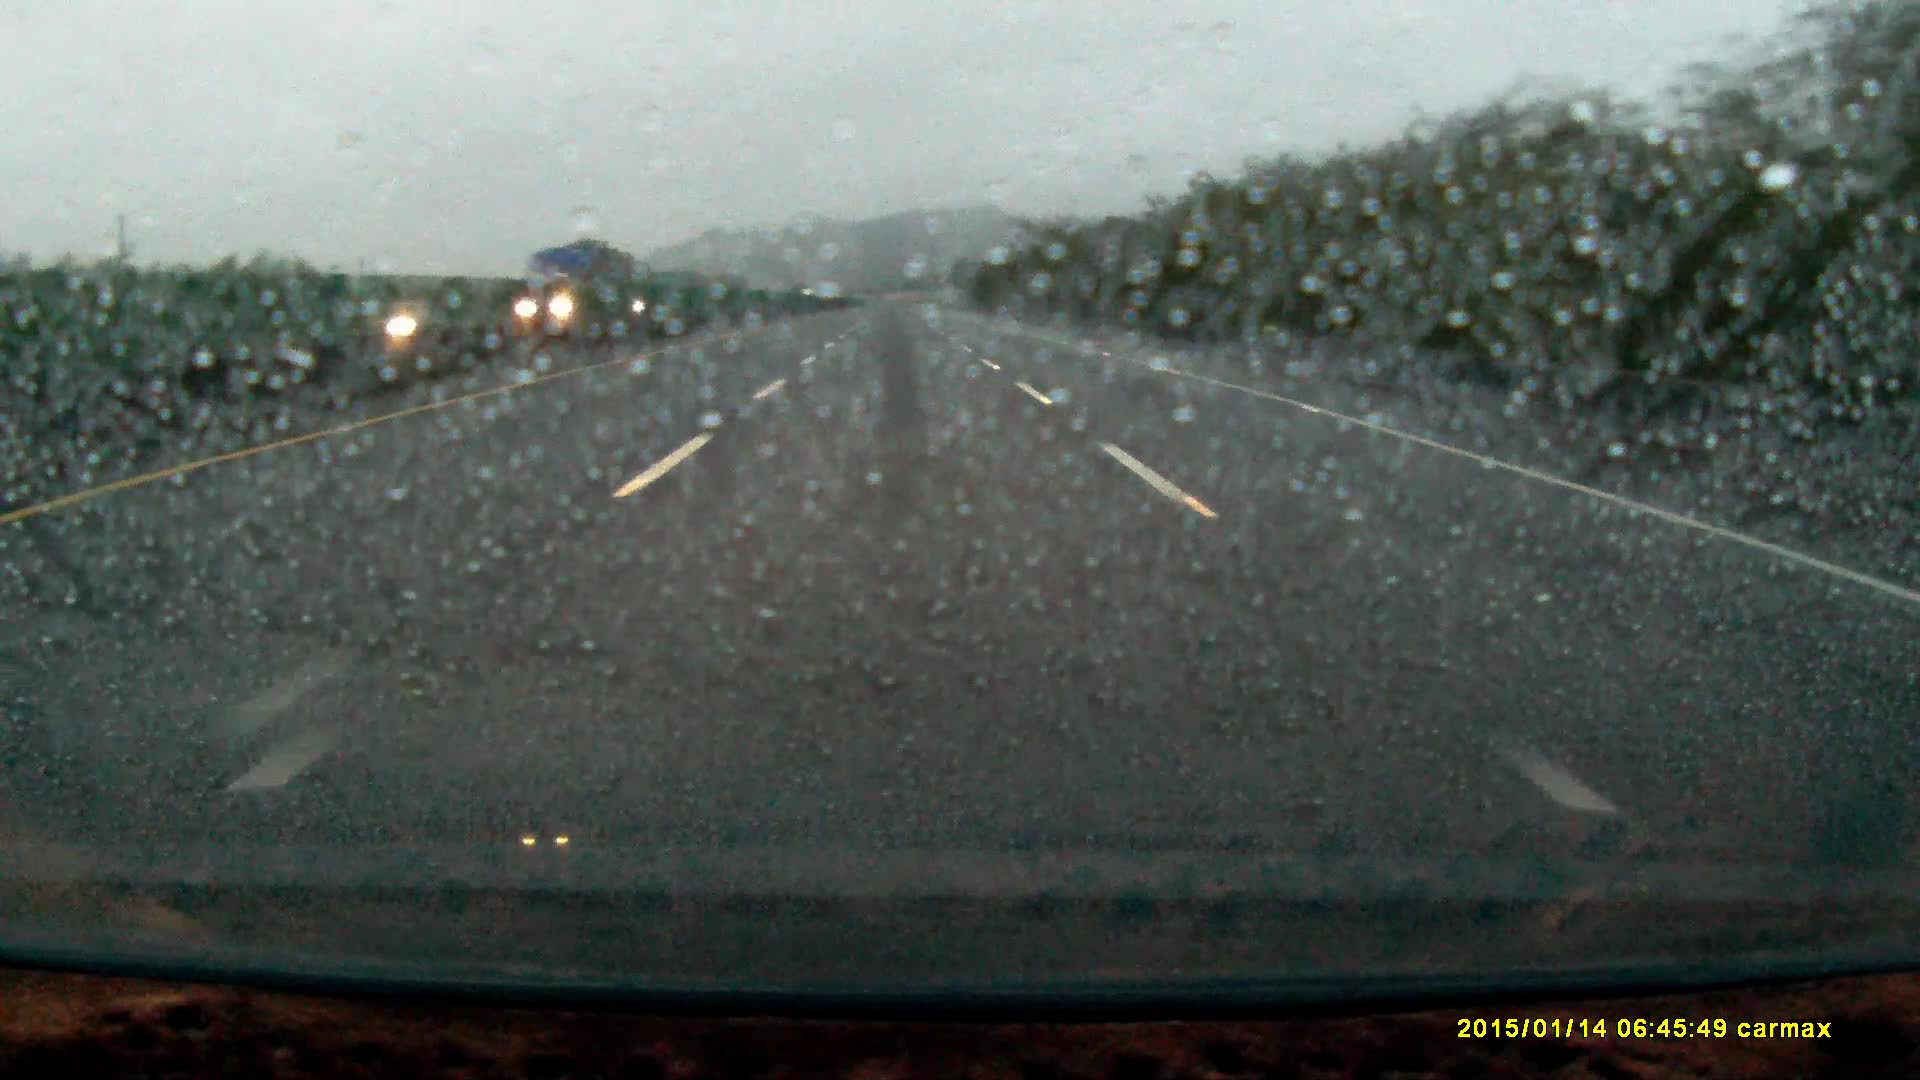vehicle: (516, 243, 634, 334), (357, 301, 448, 336)
